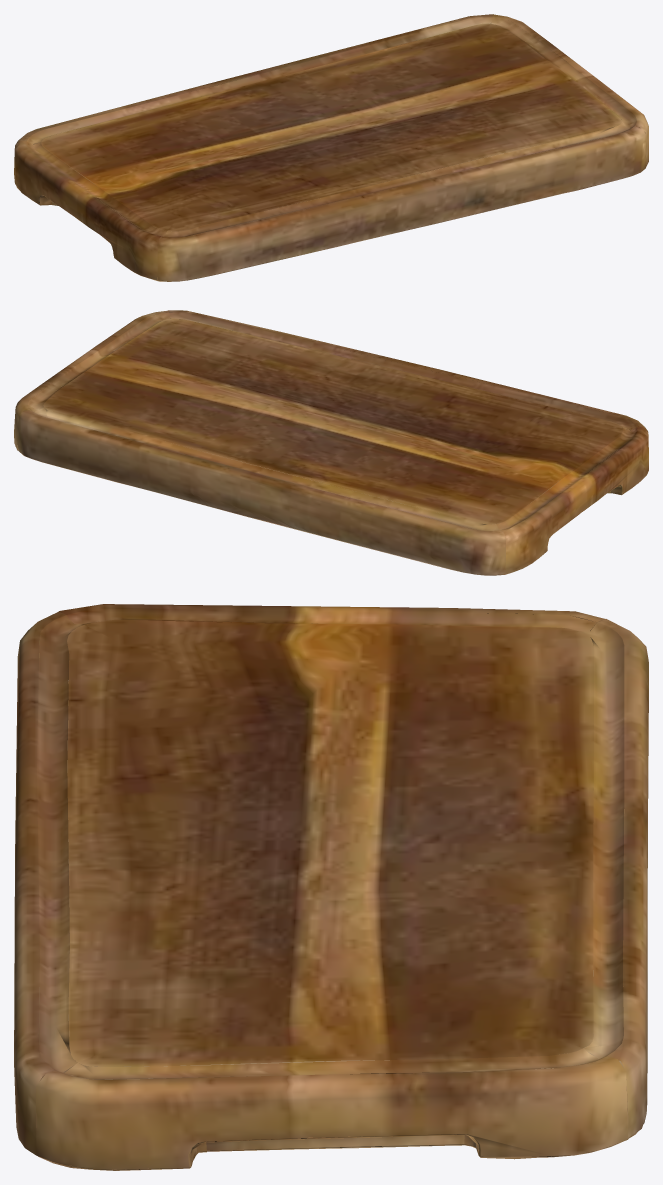
File: wooden_cutting_board.glb
3 renders of one model, top to bottom at view 1: azimuth 30°, elevation 25°; view 2: azimuth 150°, elevation 25°; view 3: azimuth 270°, elevation 25°, orthographic. The views are drawn at different scales.
Parts seen in each view (by area): view 1: wooden_cutting_board; view 2: wooden_cutting_board; view 3: wooden_cutting_board.
Part boxes in pixels (x1,y1,x2,y2): wooden_cutting_board: (14,14,648,281); wooden_cutting_board: (14,310,648,575); wooden_cutting_board: (14,604,648,1170).
Bounding box in the file's own units: 0.4499 × 0.0412 × 0.2467.
Materials: 1 (1 with a texture image).
